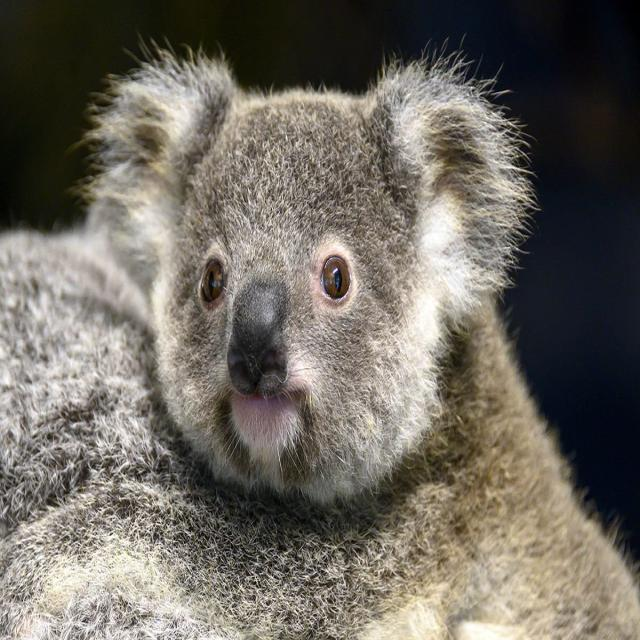Koala: (3, 41, 639, 639)
